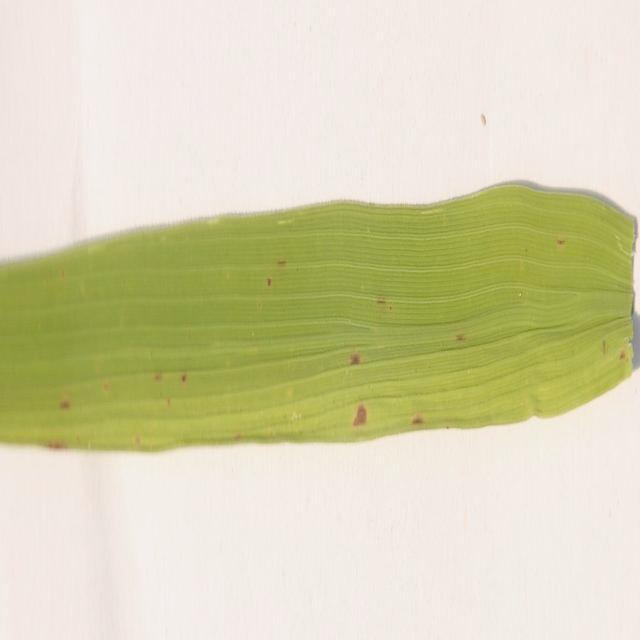Brownspot: (352, 404, 366, 426), (46, 439, 66, 449), (59, 398, 70, 409), (411, 414, 423, 424), (350, 353, 360, 364), (102, 382, 111, 392), (619, 350, 627, 361), (376, 296, 385, 305), (134, 434, 140, 446), (180, 372, 187, 382), (456, 333, 464, 341), (234, 432, 242, 440), (556, 238, 565, 245), (277, 259, 286, 266), (154, 372, 161, 381), (602, 340, 606, 354), (266, 277, 271, 286), (60, 269, 64, 278), (166, 398, 170, 406), (388, 304, 392, 310)
